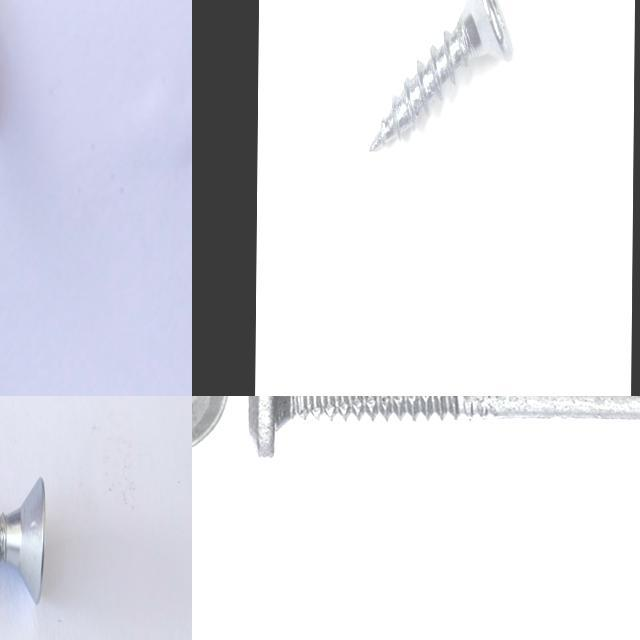Screw: (249, 396, 640, 459), (369, 0, 514, 151), (0, 477, 46, 603)
